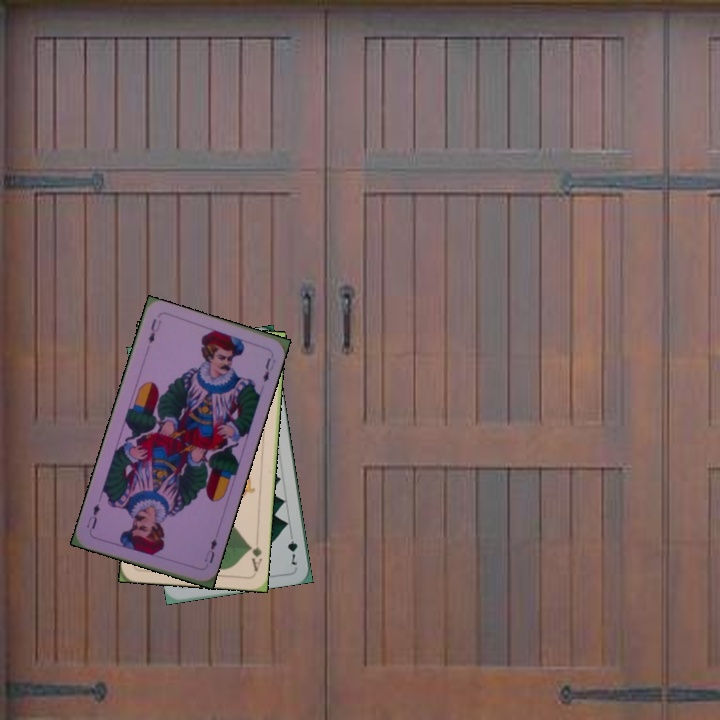EU: (200, 535, 220, 566), (144, 315, 164, 346)
G7: (283, 528, 300, 568)
GA: (245, 542, 265, 574)
